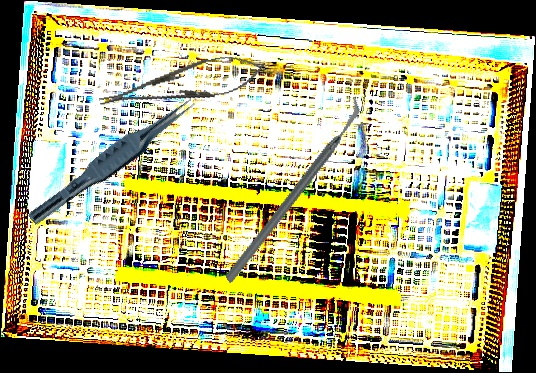Chopper: (179, 95, 407, 284)
Needle Holder: (94, 45, 270, 122)
Tissue Forceps: (26, 88, 200, 235)
